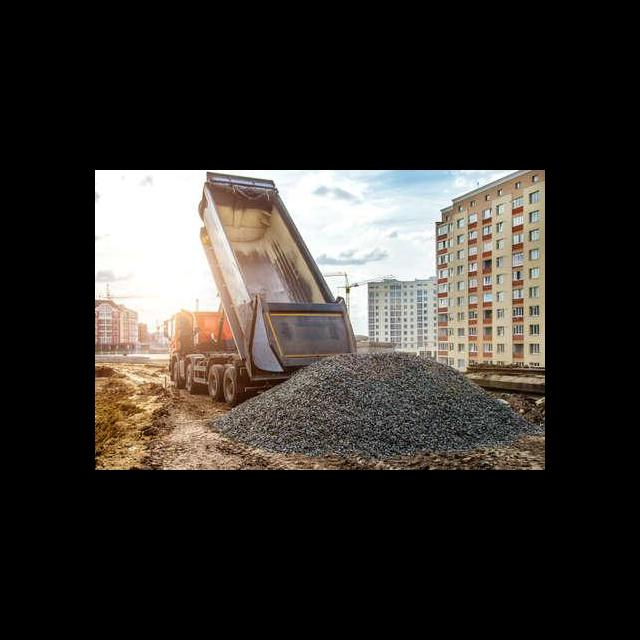Excavator: (168, 171, 358, 406)
